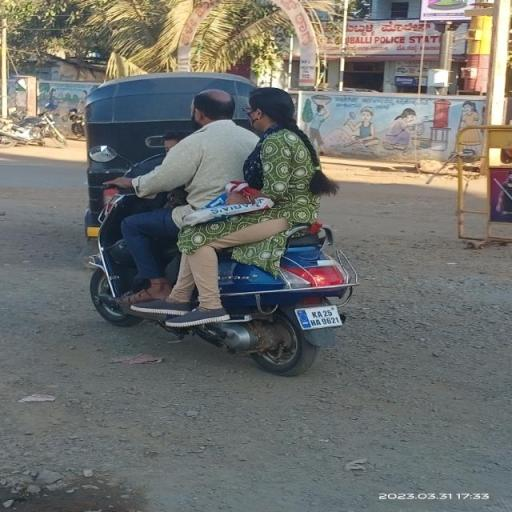bike: (90, 84, 378, 378)
numberplate: (296, 302, 346, 330)
withouthelmet: (248, 88, 294, 127), (192, 92, 234, 122)
